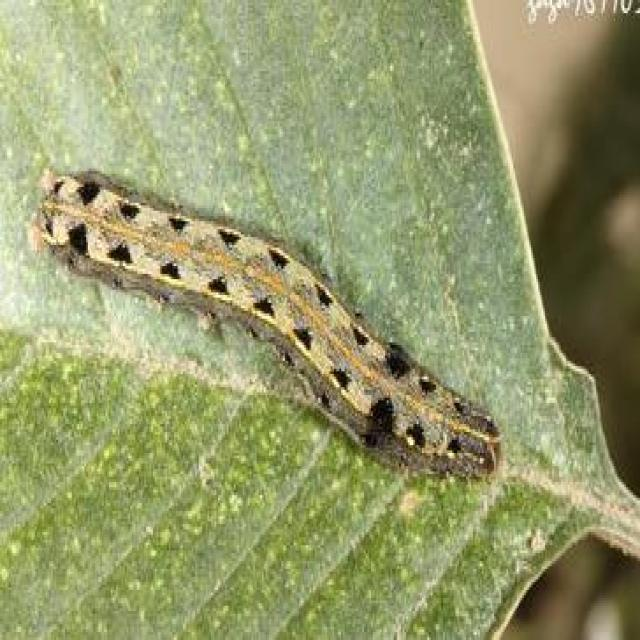armyworm: (33, 148, 520, 512)
